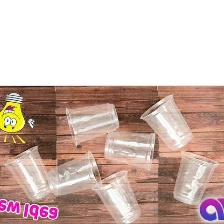glass: (137, 90, 197, 153), (0, 143, 56, 204), (43, 148, 107, 198), (89, 169, 144, 223), (169, 150, 221, 207), (63, 98, 121, 149), (101, 126, 160, 173)
